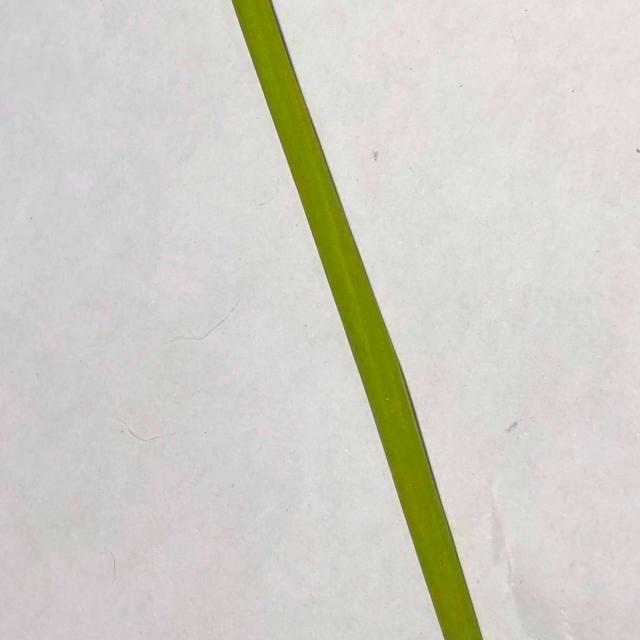Rice_Healthy: (232, 0, 483, 640)
